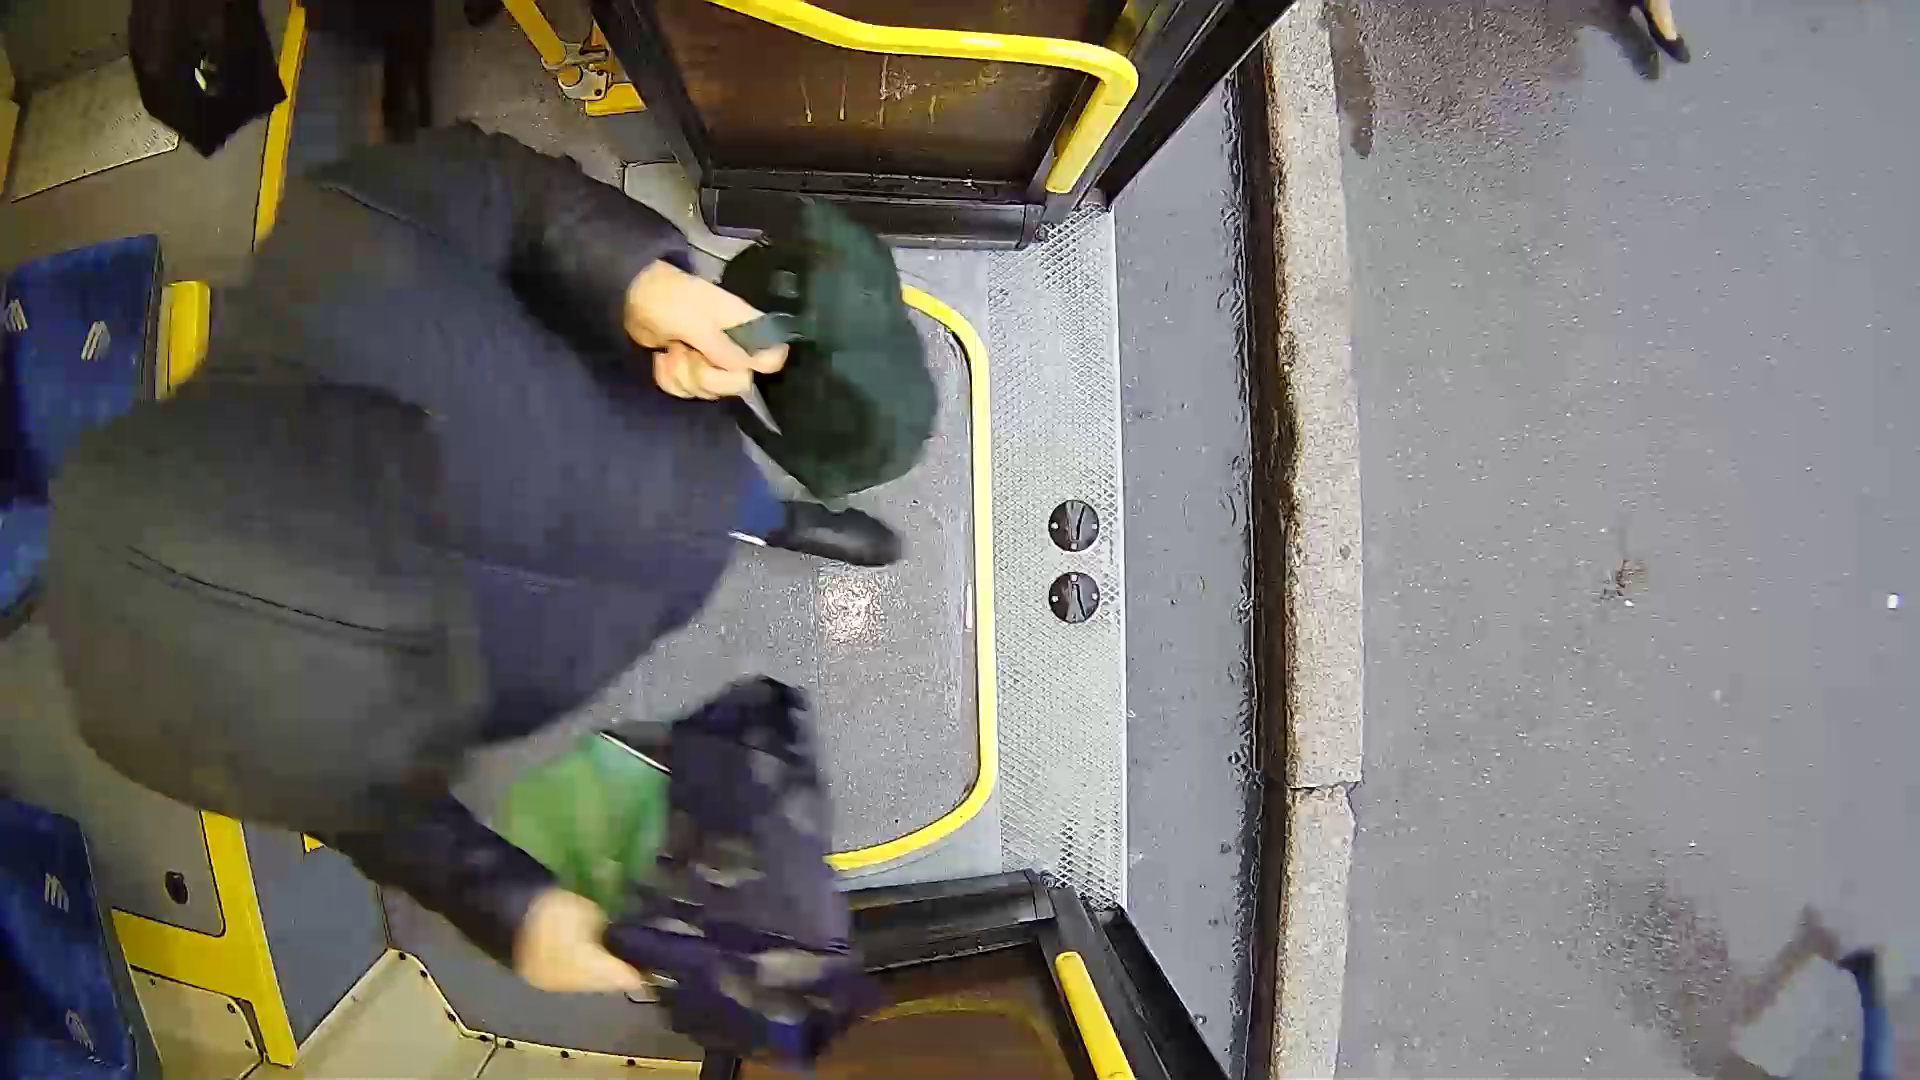person: (55, 110, 993, 840)
